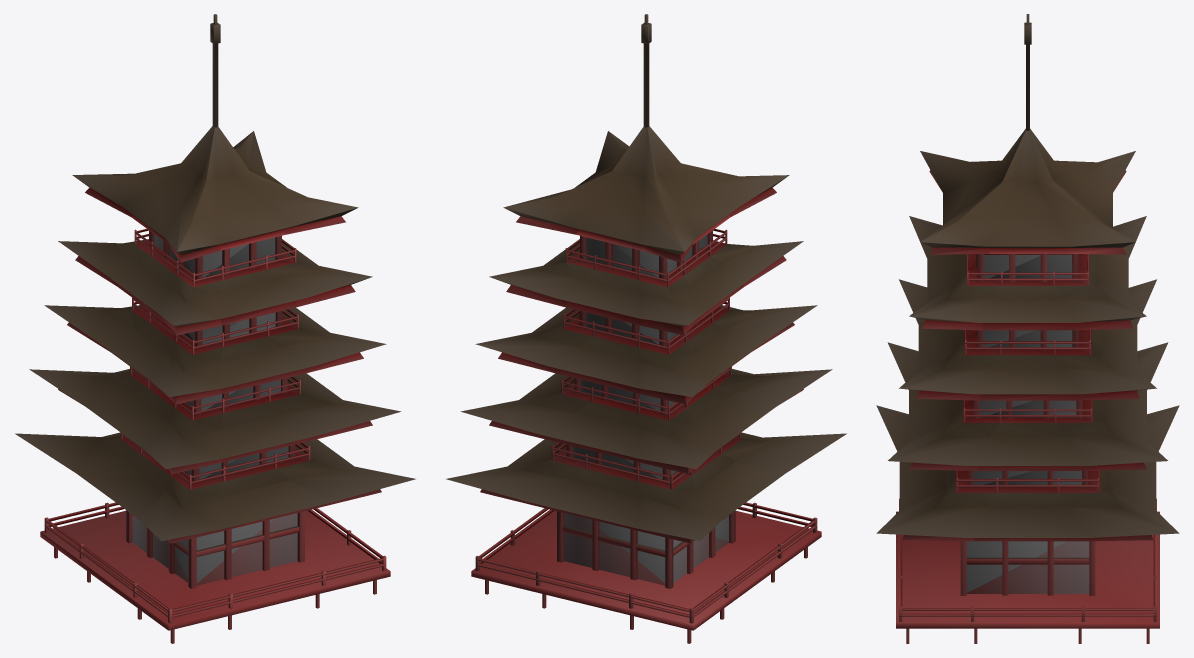
The model's file is bld_pagoda_red.glb.
3 views of the same model, side by side, from view 1: azimuth 30°, elevation 25°; view 2: azimuth 150°, elevation 25°; view 3: azimuth 270°, elevation 25° (orthographic). The views are drawn at different scales.
Visible parts, largest first — view 1: refined; view 2: refined; view 3: refined.
Boxes of the visible parts, x1=… form: refined: x1=15, y1=14, x2=415, y2=643; refined: x1=446, y1=14, x2=846, y2=643; refined: x1=876, y1=14, x2=1179, y2=643.
Bounding box in the file's own units: 26.41 × 55.5 × 26.41.
